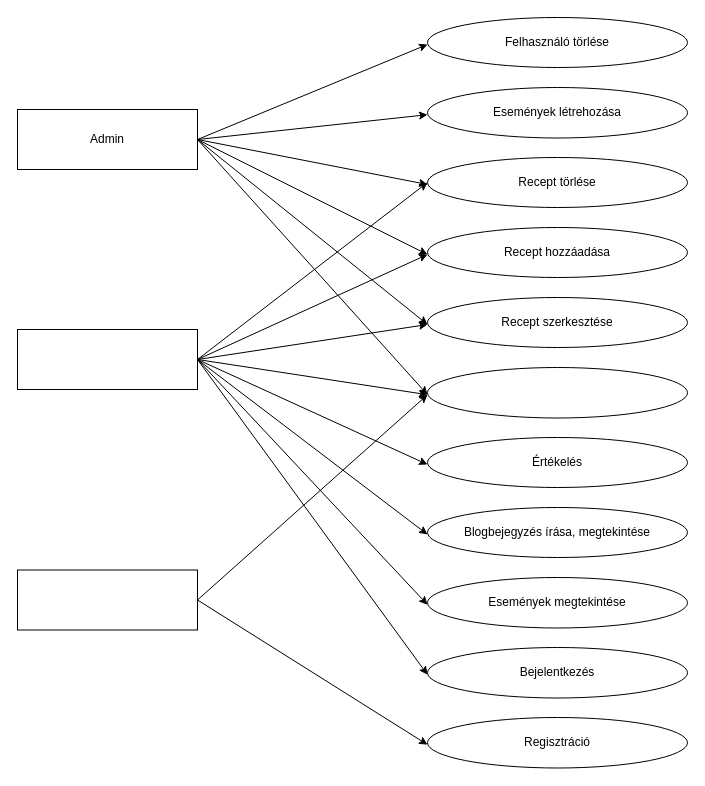
This 705x786 diagram has some shape labels left out. The centre of each missing label's shape, as x and y in pixels:
Nem regisztrált felhasználó: (107,599)
Receptek megtekintése: (557,392)
Regisztrált tag: (107,359)
